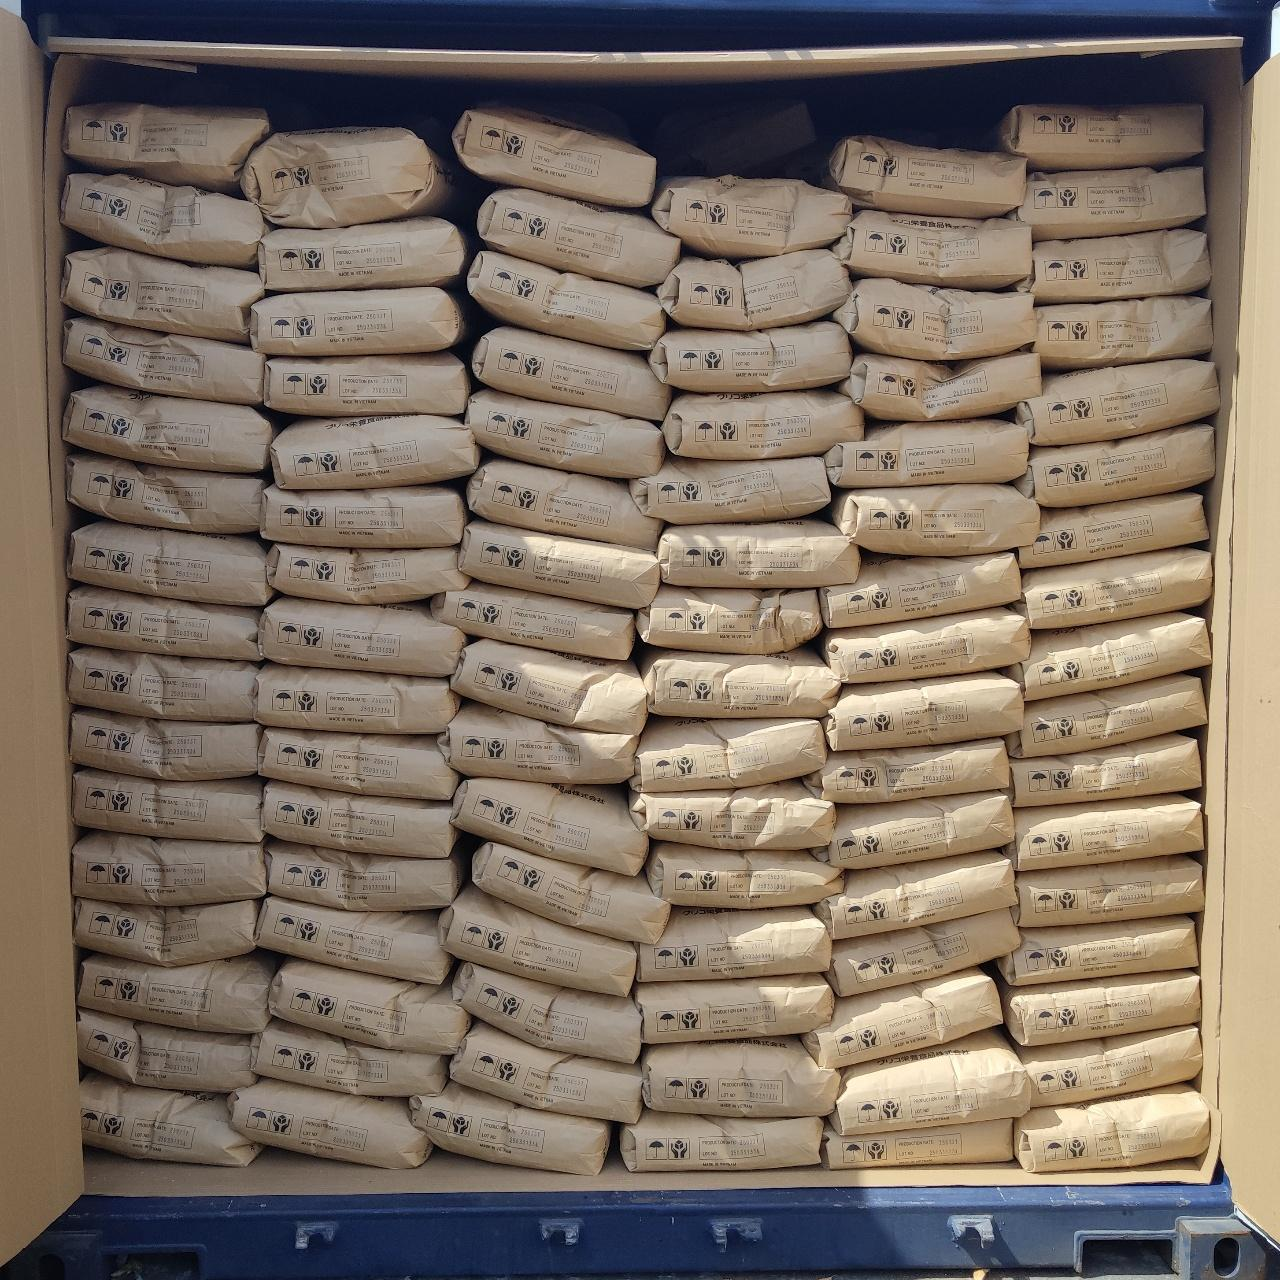sack: (442, 884, 638, 990), (834, 1028, 1028, 1132), (242, 128, 454, 222), (480, 188, 678, 286), (456, 108, 654, 206), (474, 840, 668, 940), (806, 968, 998, 1068), (470, 252, 662, 350), (64, 248, 262, 342), (64, 174, 266, 266), (270, 958, 466, 1052), (452, 1022, 640, 1118), (412, 1080, 608, 1172), (454, 964, 638, 1062), (66, 384, 272, 470), (454, 778, 646, 870), (472, 328, 668, 418), (66, 104, 270, 190), (468, 458, 660, 548), (466, 388, 662, 476), (66, 316, 262, 404), (230, 1080, 430, 1166), (452, 640, 646, 728), (460, 520, 658, 606), (1016, 360, 1216, 444), (70, 520, 270, 604), (1008, 614, 1206, 698), (80, 1072, 258, 1164), (816, 852, 1014, 934), (258, 896, 446, 982), (828, 908, 1014, 994), (1016, 1086, 1206, 1170), (440, 702, 638, 782), (68, 452, 266, 532), (822, 136, 1022, 214), (1008, 676, 1202, 756), (1016, 548, 1210, 628), (834, 280, 1032, 358), (260, 598, 462, 674), (432, 582, 634, 658), (1016, 424, 1212, 502), (824, 672, 1022, 748), (652, 178, 848, 254), (834, 210, 1030, 286), (1002, 970, 1198, 1046), (642, 1038, 838, 1114), (260, 218, 464, 290), (820, 552, 1018, 626), (80, 954, 272, 1030), (816, 792, 1012, 866), (272, 416, 478, 486), (658, 250, 846, 326), (252, 1020, 444, 1094), (820, 610, 1028, 678), (70, 586, 260, 660), (632, 718, 826, 790), (1008, 796, 1202, 868), (80, 1010, 254, 1090), (266, 840, 464, 910), (1016, 1026, 1198, 1102), (638, 908, 830, 980), (1020, 492, 1206, 566), (256, 664, 458, 732), (830, 484, 1038, 550), (258, 728, 454, 798), (264, 782, 454, 854), (1016, 230, 1206, 302), (630, 780, 834, 846), (640, 648, 838, 716), (842, 350, 1038, 418), (990, 104, 1204, 166), (1014, 734, 1198, 806), (826, 420, 1026, 486), (1016, 168, 1204, 238), (74, 770, 262, 840), (74, 832, 262, 902), (250, 288, 462, 350), (658, 518, 856, 584), (650, 324, 848, 390), (70, 648, 256, 718), (1016, 856, 1202, 926), (72, 708, 258, 778), (998, 916, 1194, 982), (632, 456, 828, 522), (636, 974, 830, 1040), (664, 390, 862, 454), (264, 352, 468, 414), (806, 740, 1006, 802), (1036, 296, 1210, 366), (648, 842, 838, 906), (638, 586, 820, 652), (76, 900, 256, 966), (622, 1110, 822, 1168), (268, 544, 466, 602), (262, 486, 464, 542), (824, 1118, 1012, 1166)
